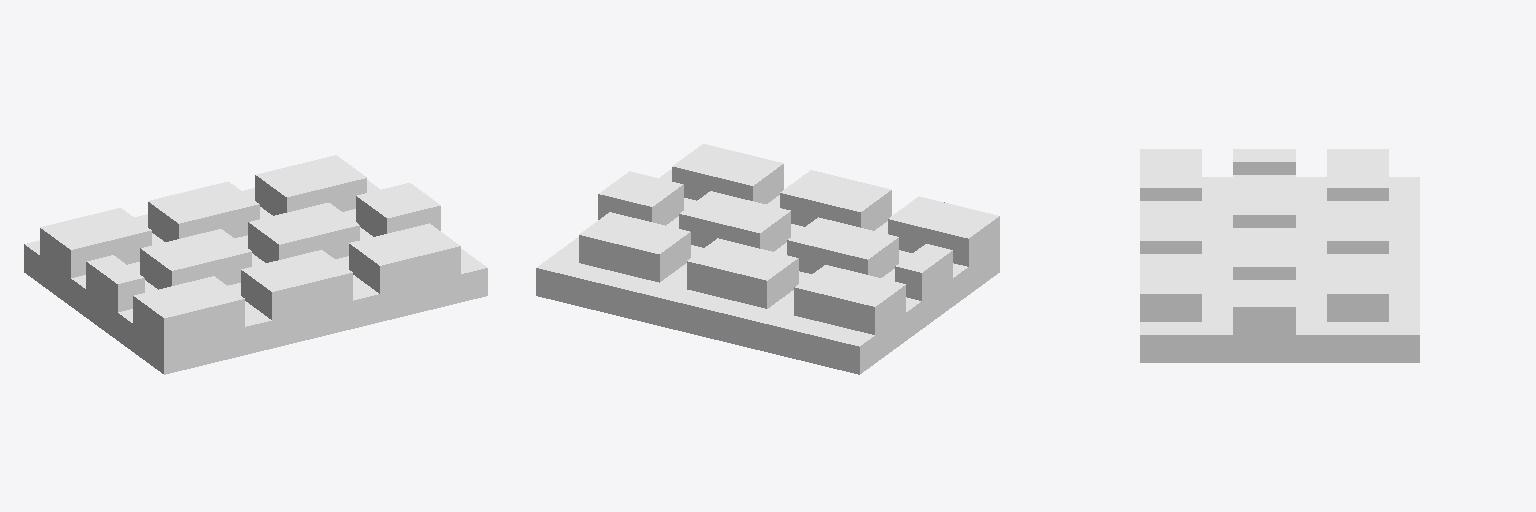
File: paved_path_obj-1.obj
The picture shows the model from 3 angles: view 1: azimuth 30°, elevation 25°; view 2: azimuth 150°, elevation 25°; view 3: azimuth 270°, elevation 25°; orthographic projection.
Visible parts, largest first — view 1: object 1; view 2: object 1; view 3: object 1.
Boxes of the visible parts, <box> form: object 1: <box>24,155,487,374</box>; object 1: <box>536,144,999,374</box>; object 1: <box>1140,149,1419,362</box>.
Size of the model in its own units: 1.2 by 0.2 by 0.9.